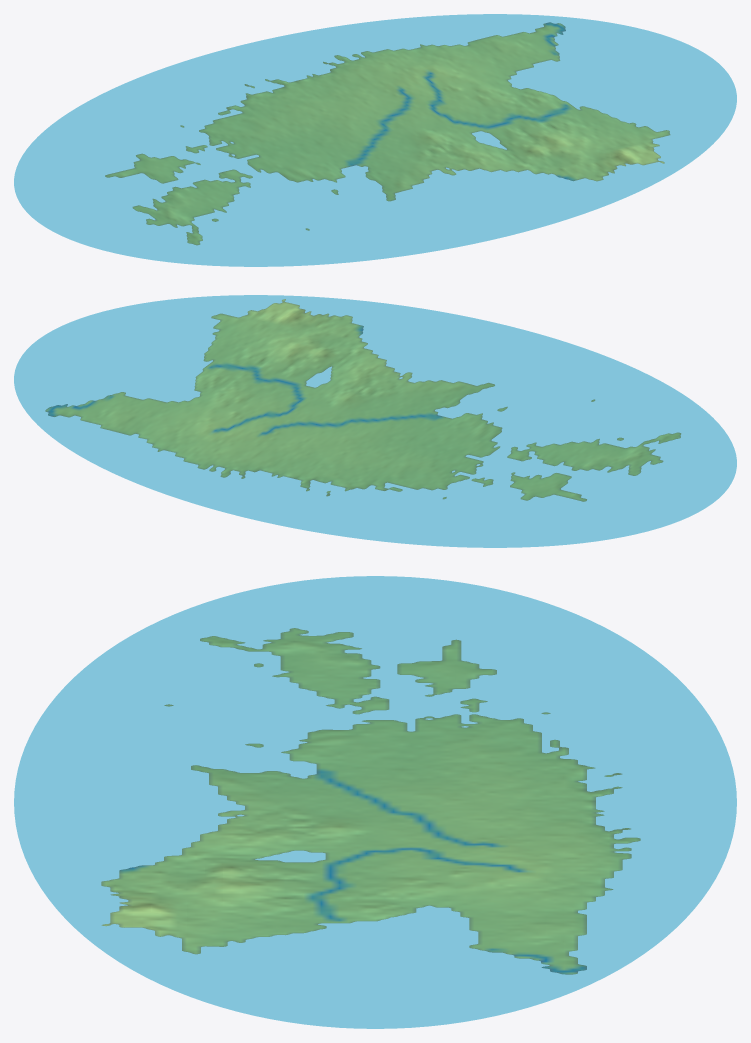
Rendered from EST-terrain.glb.
3 renders of one model, top to bottom at view 1: azimuth 30°, elevation 25°; view 2: azimuth 150°, elevation 25°; view 3: azimuth 270°, elevation 25°, orthographic. The views are drawn at different scales.
Visible parts, largest first — view 1: Relevo com hidrografia; view 2: Relevo com hidrografia; view 3: Relevo com hidrografia.
Part boxes in pixels (box(x1,y1,x2,y2)): Relevo com hidrografia: box(14, 14, 736, 266); Relevo com hidrografia: box(14, 295, 736, 547); Relevo com hidrografia: box(14, 576, 736, 1028).
Bounding box in the file's own units: 2.08 × 0.0146 × 1.4.
Materials: 2 (1 with a texture image).
